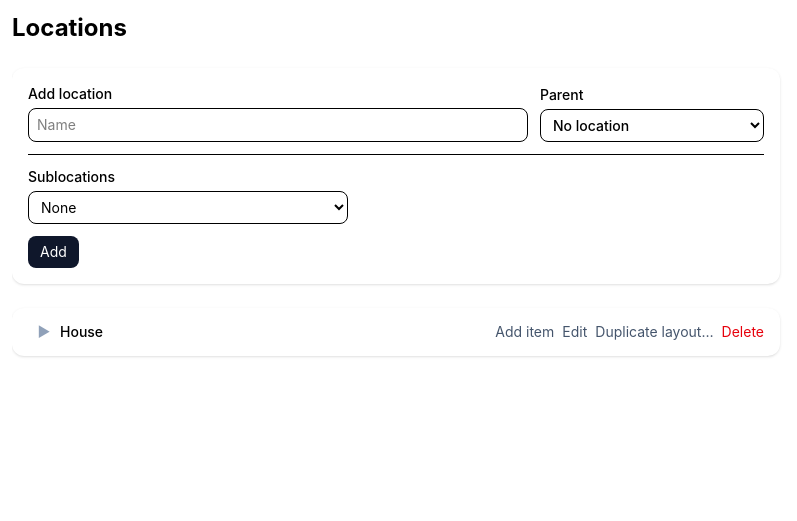
Test: LocationsView › offers one "Add item" link per row pointing at /items/new?location=<id>
Click the button "▶" at coordinates (44, 332), box 28,316 -> 60,348
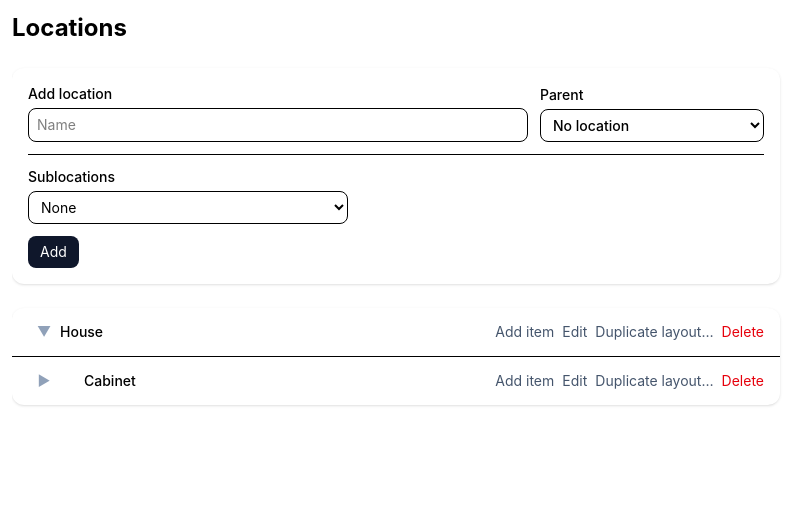
Click the button "▶" at coordinates (44, 381), box 28,365 -> 60,397
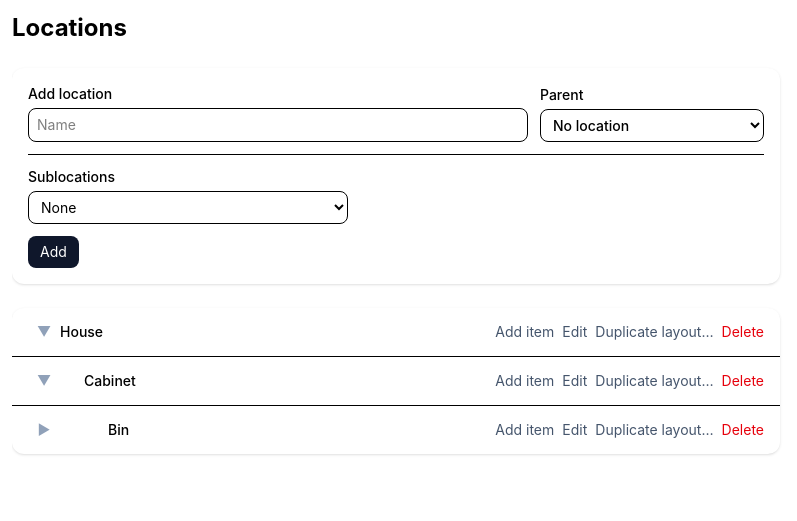
Click the button "▶" at coordinates (44, 430), box 28,414 -> 60,446
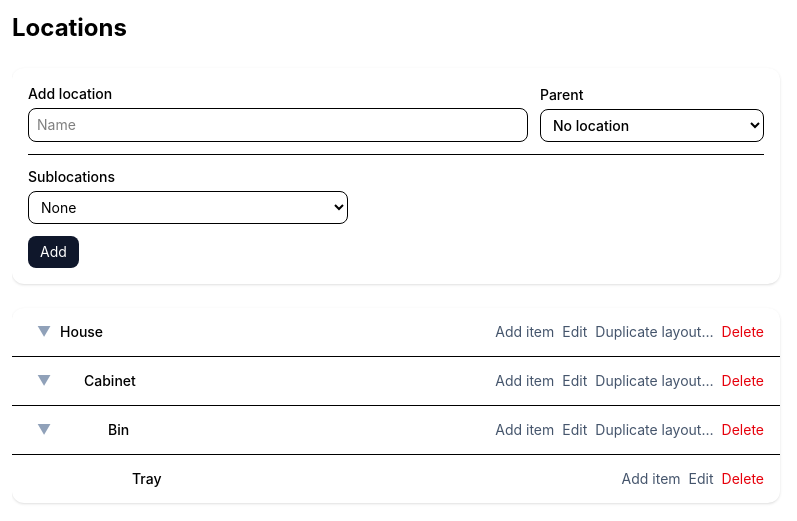
Expected: the number of links is 4, 495,322 -> 554,342; 495,371 -> 554,391; 495,420 -> 554,440; 622,469 -> 681,489
